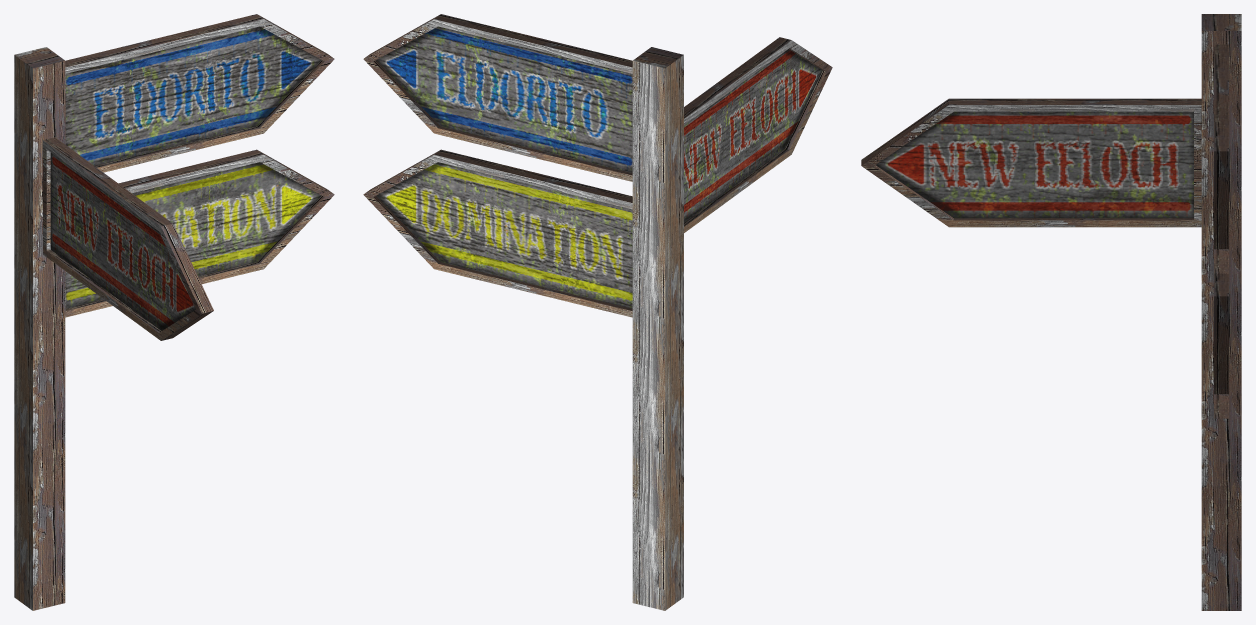
Rendered from triplesign2.fbx.
3 views of the same model, side by side, from view 1: azimuth 30°, elevation 25°; view 2: azimuth 150°, elevation 25°; view 3: azimuth 270°, elevation 25° (orthographic). The views are drawn at different scales.
Parts seen in each view (by area): view 1: triplesign2; view 2: triplesign2; view 3: triplesign2.
Part boxes in pixels (<box>): triplesign2: <box>14,14,334,610</box>; triplesign2: <box>363,14,832,610</box>; triplesign2: <box>861,14,1241,610</box>.
Bounding box in the file's own units: 15200 × 25600 × 15200.
